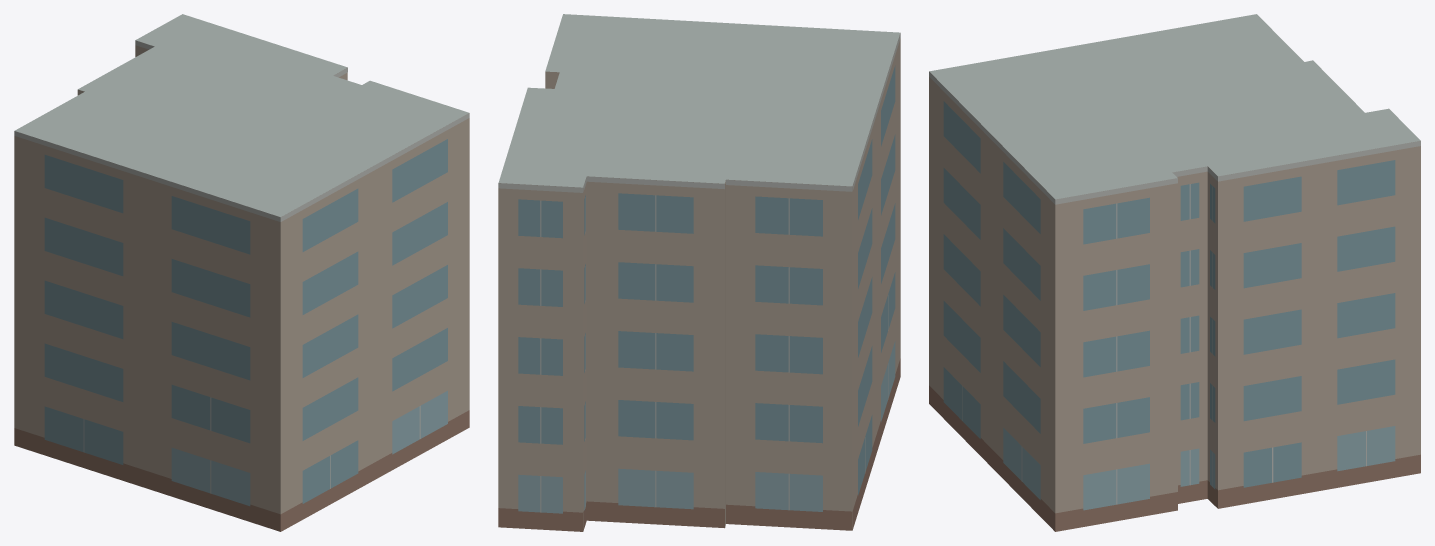
File: survey-upis-32853865.glb
3 renders of one model, left to right at view 1: azimuth 30°, elevation 25°; view 2: azimuth 150°, elevation 25°; view 3: azimuth 270°, elevation 25°, orthographic. The views are drawn at different scales.
Parts seen in each view (by area): view 1: survey-upis-32853865.tmp; view 2: survey-upis-32853865.tmp; view 3: survey-upis-32853865.tmp.
Part boxes in pixels (x1,y1,x2,y2): survey-upis-32853865.tmp: [14, 14, 469, 531]; survey-upis-32853865.tmp: [498, 14, 900, 531]; survey-upis-32853865.tmp: [929, 14, 1420, 531].
Size of the model in its own units: 18.62 by 15.55 by 20.86.
